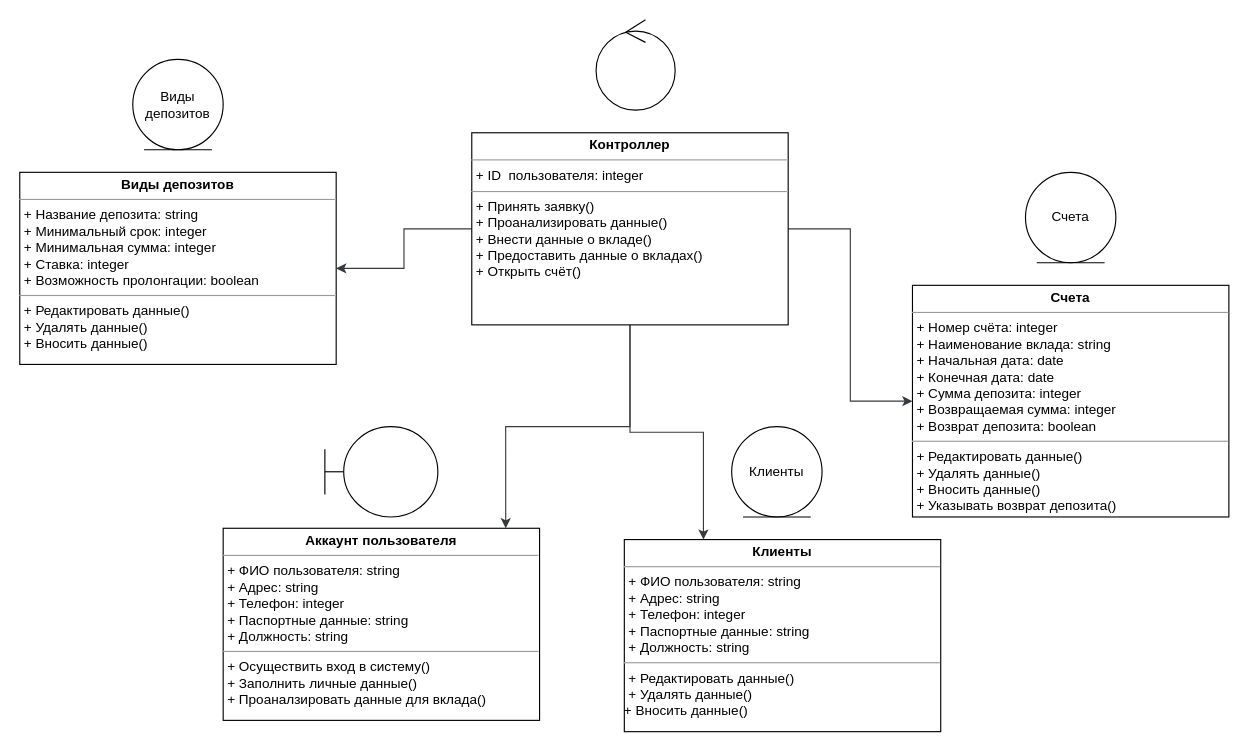
Some shapes in this 1249 by 751 pixel diagram are drawn without their labels. Here are the shapes that lost their labels. From the top down, the centre of each, then its label:
At pixel 635 64: "Контроллер операции вклада".
At pixel 381 471: "Аккаунт менеджера".
